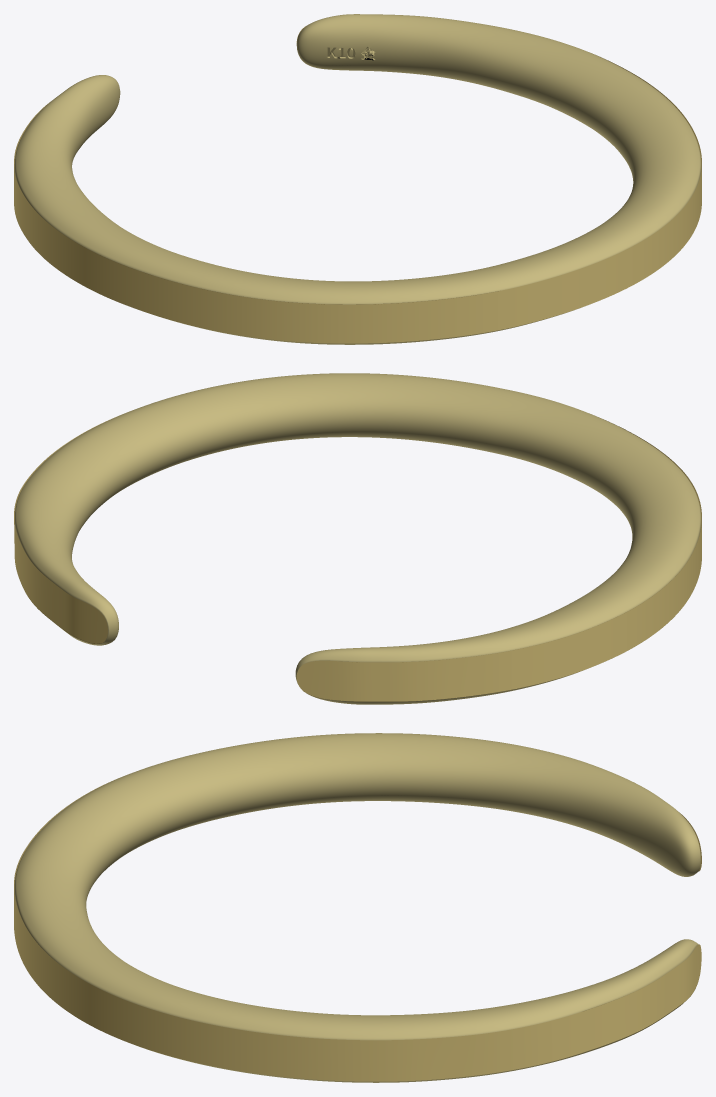
File: ring-gold10.glb
3 views of the same model, one above another, from view 1: azimuth 30°, elevation 25°; view 2: azimuth 150°, elevation 25°; view 3: azimuth 270°, elevation 25° (orthographic). The views are drawn at different scales.
Visible parts, largest first — view 1: ring-body.002, ring-body.003; view 2: ring-body.002, ring-body.003; view 3: ring-body.002, ring-body.003.
Part boxes in pixels (x1,y1,x2,y2): ring-body.002: (14, 14, 701, 344); ring-body.003: (14, 26, 701, 343); ring-body.002: (15, 373, 701, 704); ring-body.003: (14, 412, 701, 701); ring-body.002: (14, 733, 700, 1082); ring-body.003: (14, 776, 701, 1081).
Size of the model in its own units: 0.5126 by 0.0444 by 0.4867.
2 materials, 2 textured.
